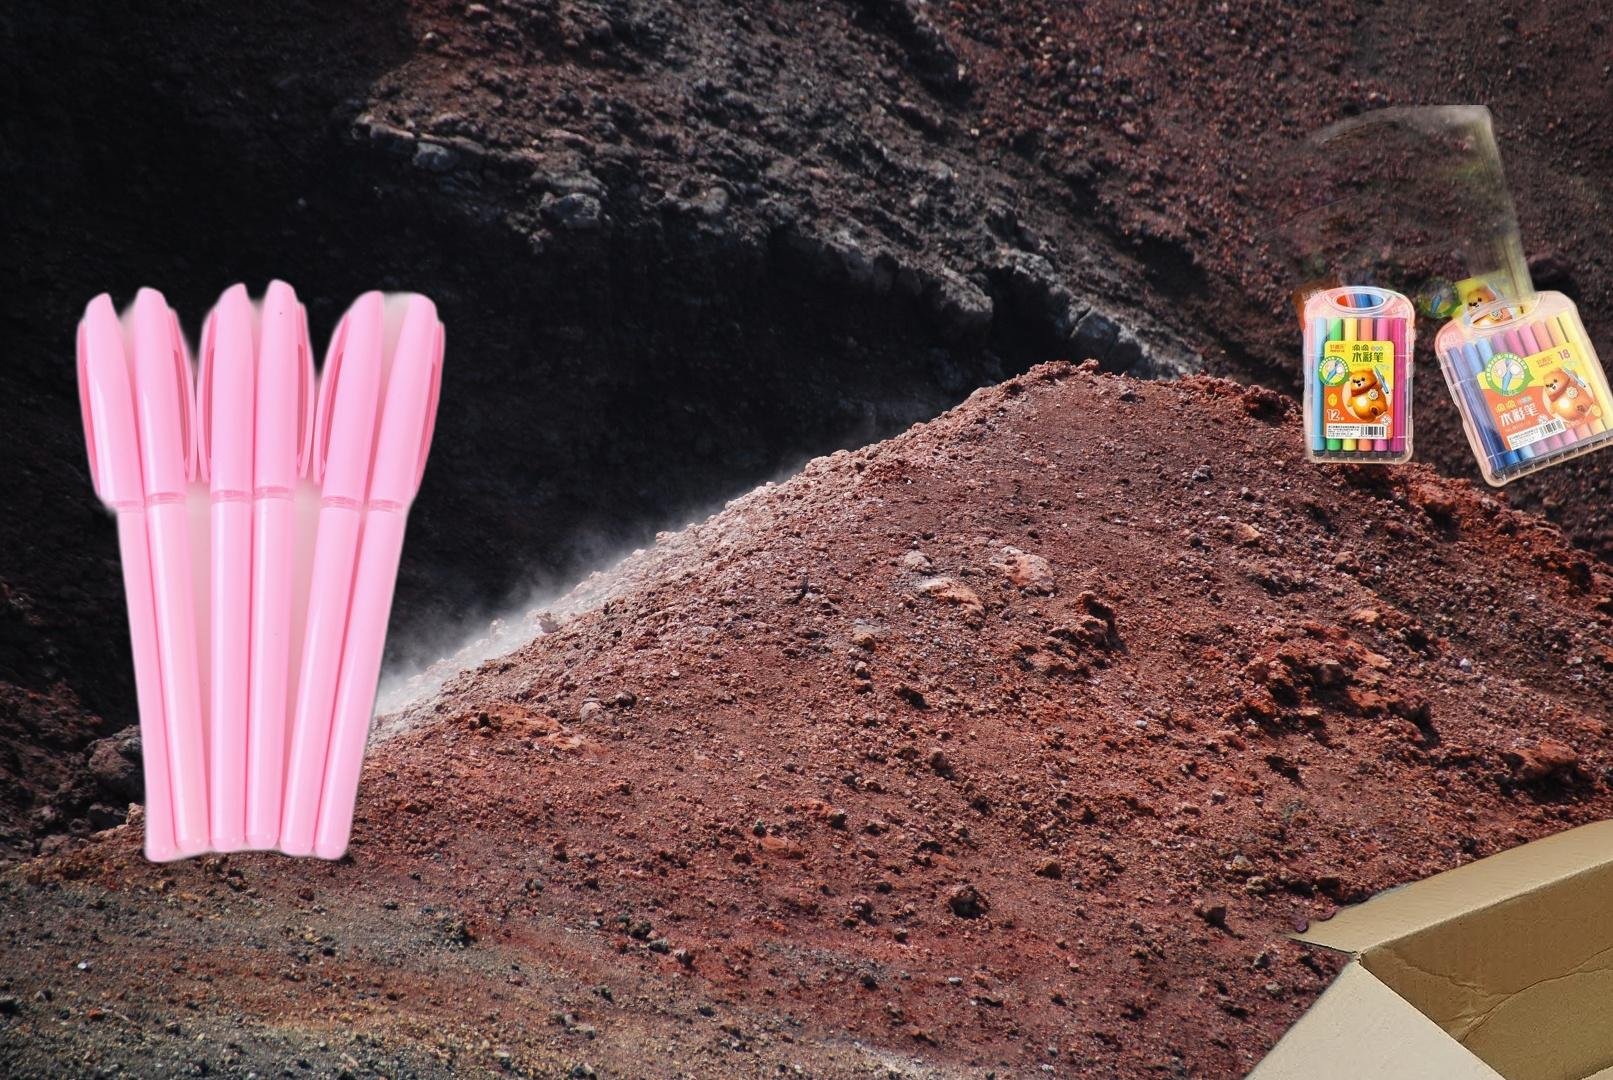penholder: (69, 272, 452, 870), (1226, 105, 1613, 491)
trashbox-cardboard: (1061, 730, 1613, 1080)
